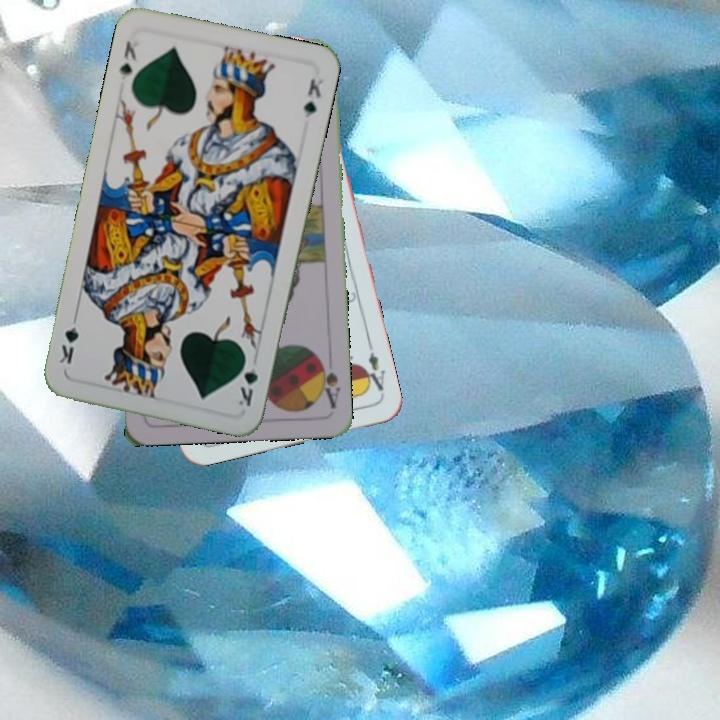EA: (358, 340, 388, 398)
GK: (234, 351, 261, 409), (115, 37, 139, 83)
SA: (314, 352, 343, 411)
